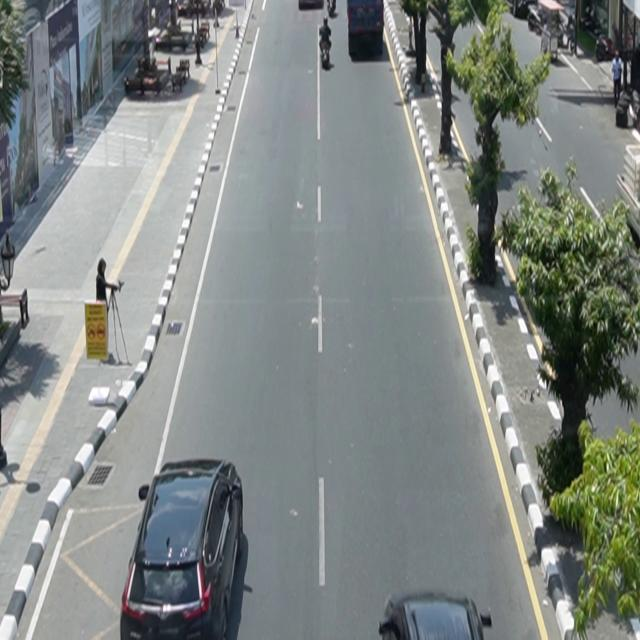car: (121, 459, 244, 640), (379, 592, 493, 640), (347, 1, 385, 57)
